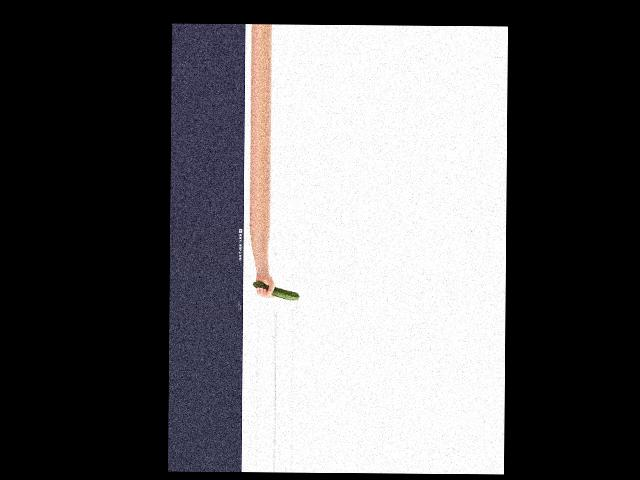cucumber: (252, 282, 299, 300)
